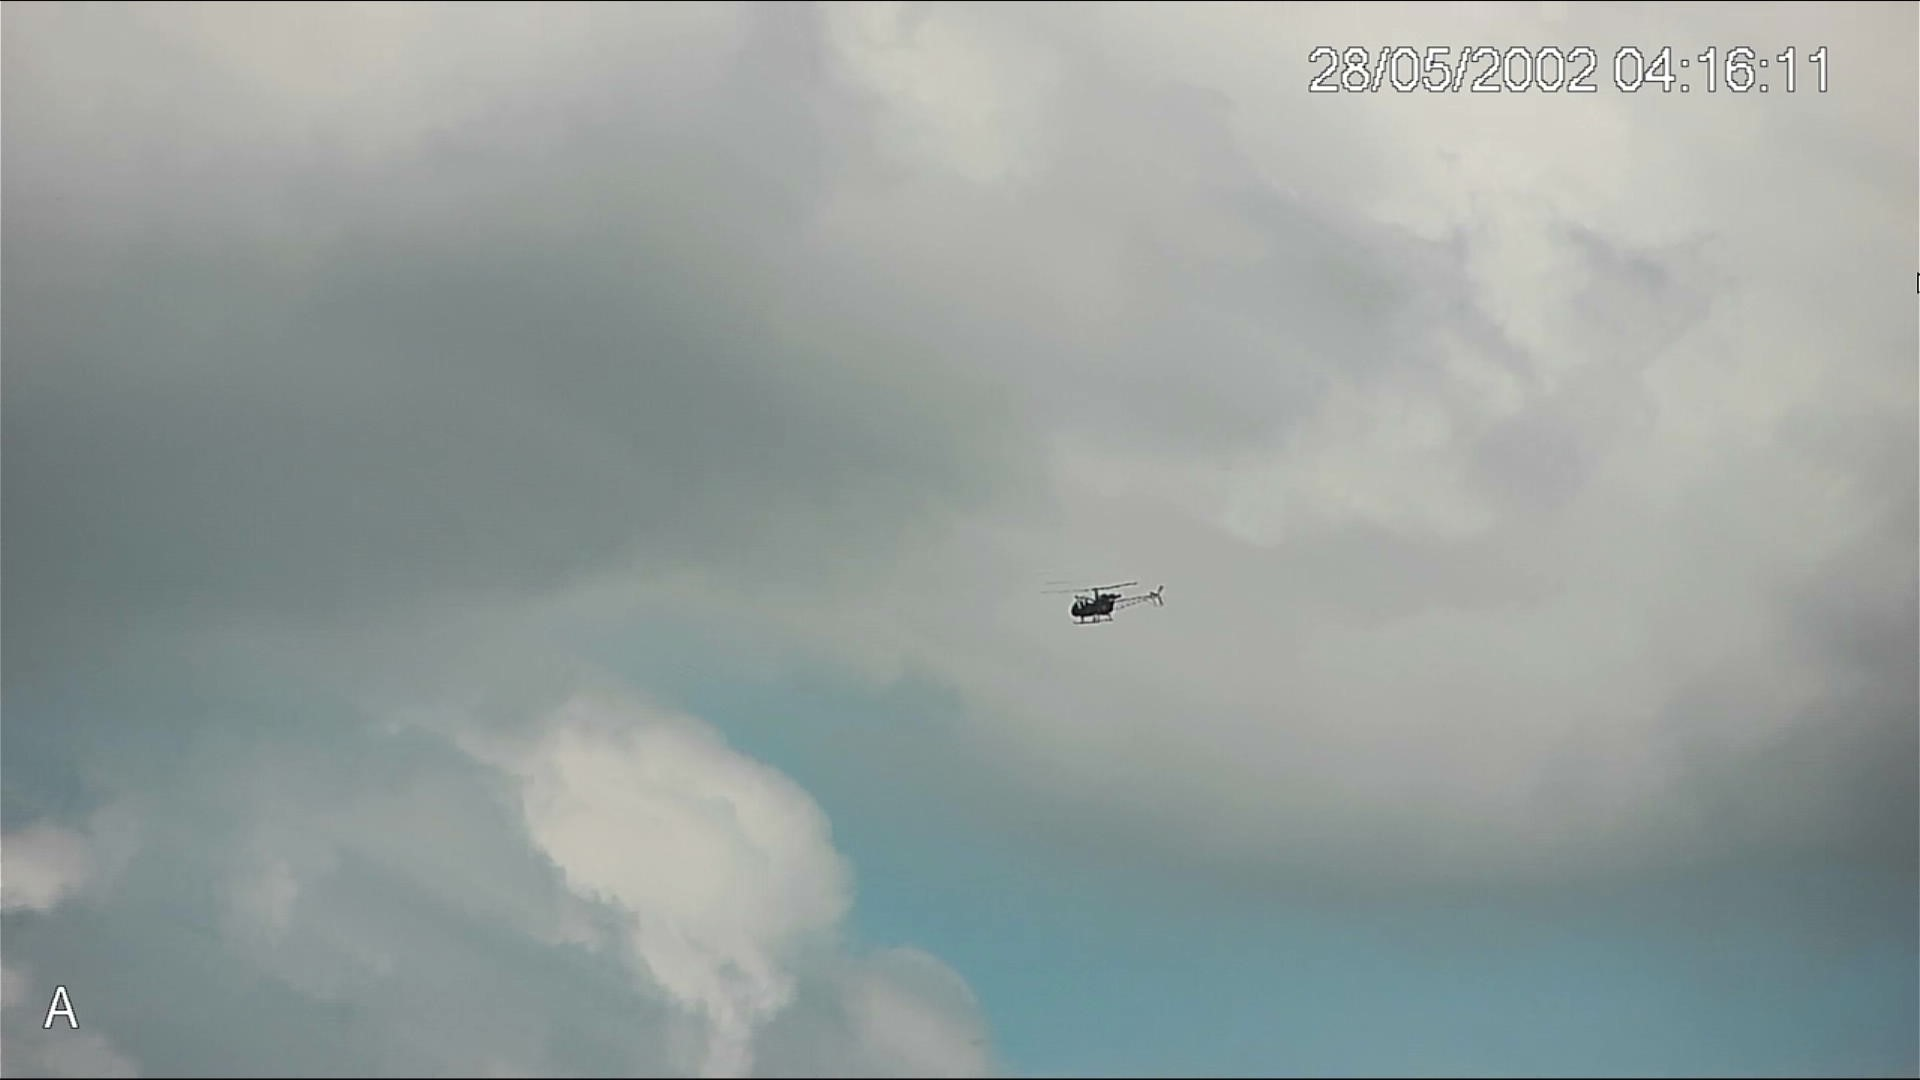SU_30: (1058, 583, 1167, 625)
